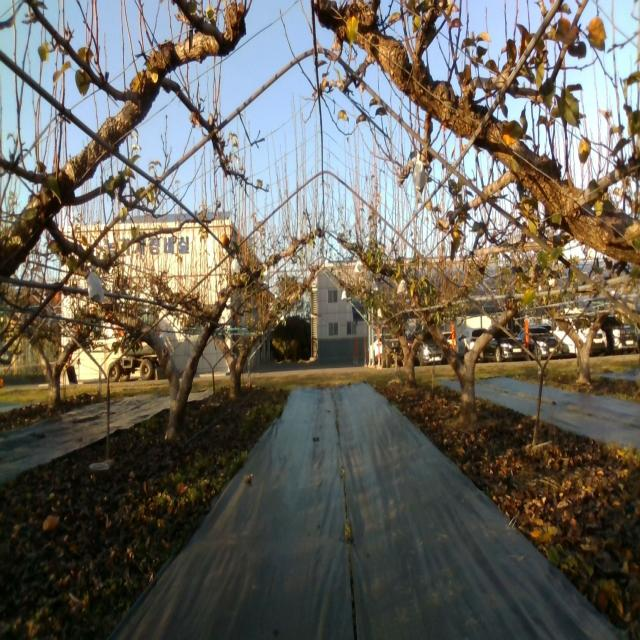pearbags: (87, 265, 105, 306), (413, 152, 426, 196), (230, 253, 240, 277)
